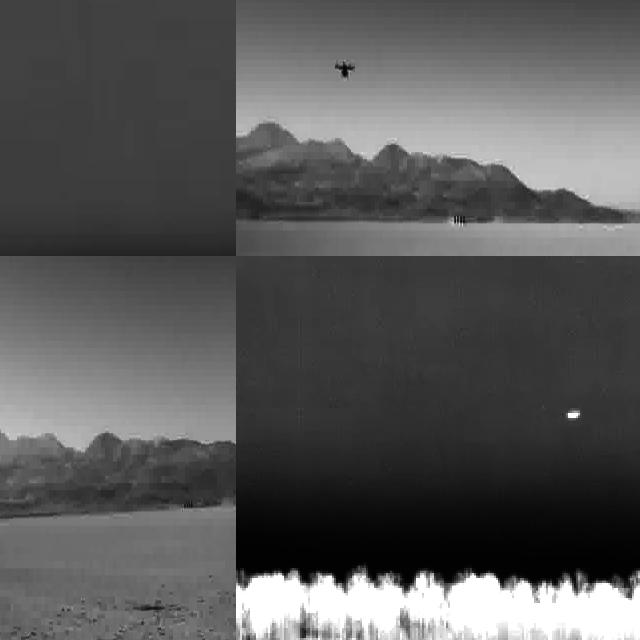1: (552, 402, 588, 432)
drone: (329, 59, 356, 83)
